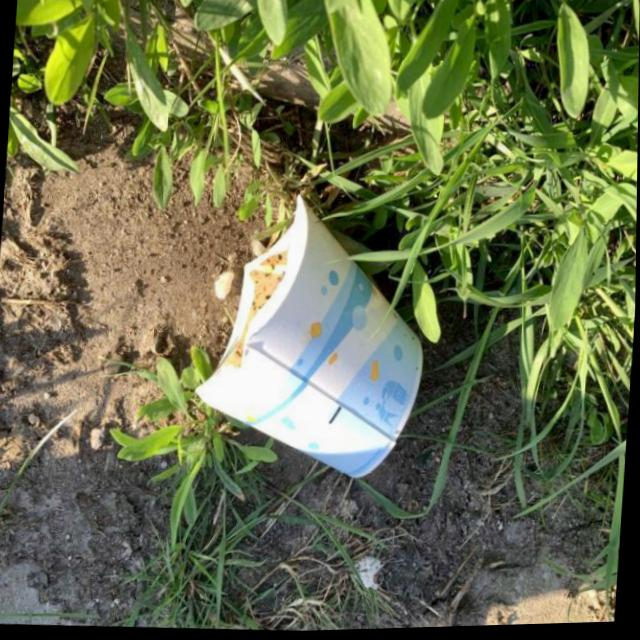Paper: (188, 183, 438, 488)
